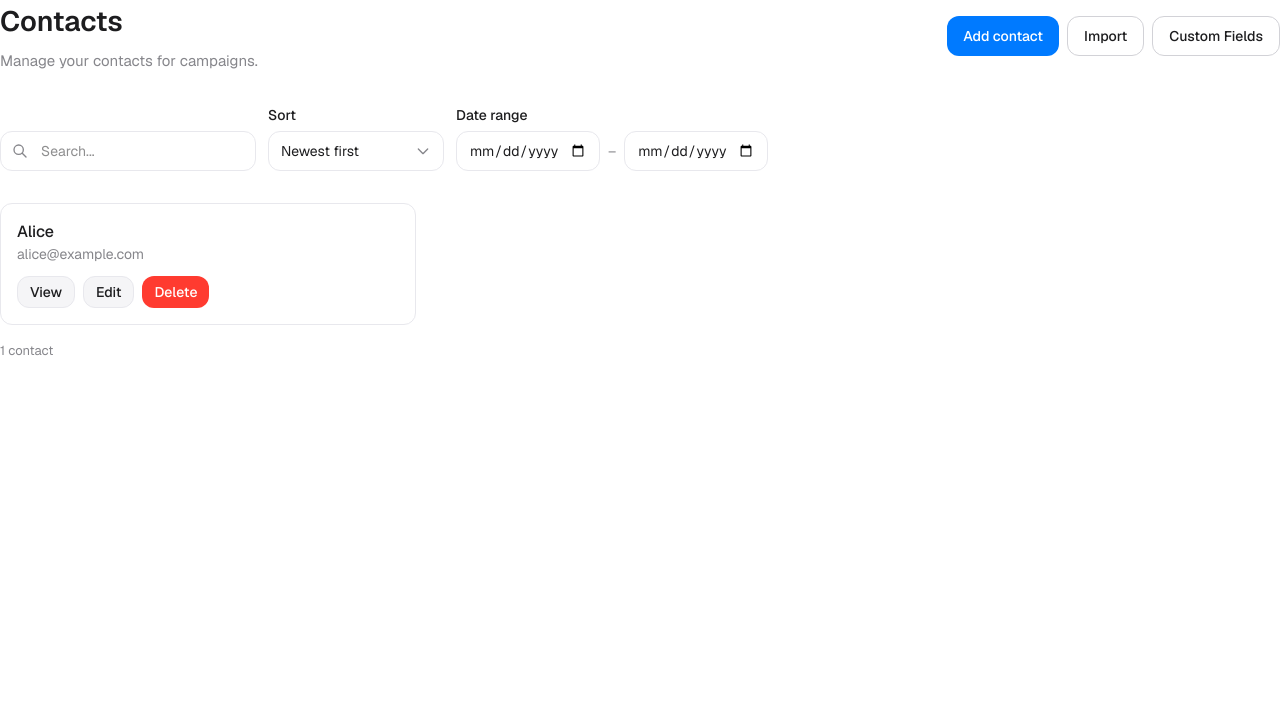
Test: ContactsPage › shows an error when deleting a contact fails
Expected: the text "Alice" is shown, [17,220,54,242]
Step 1. Click the button "Delete" → (176, 292), box [142,276,210,308]
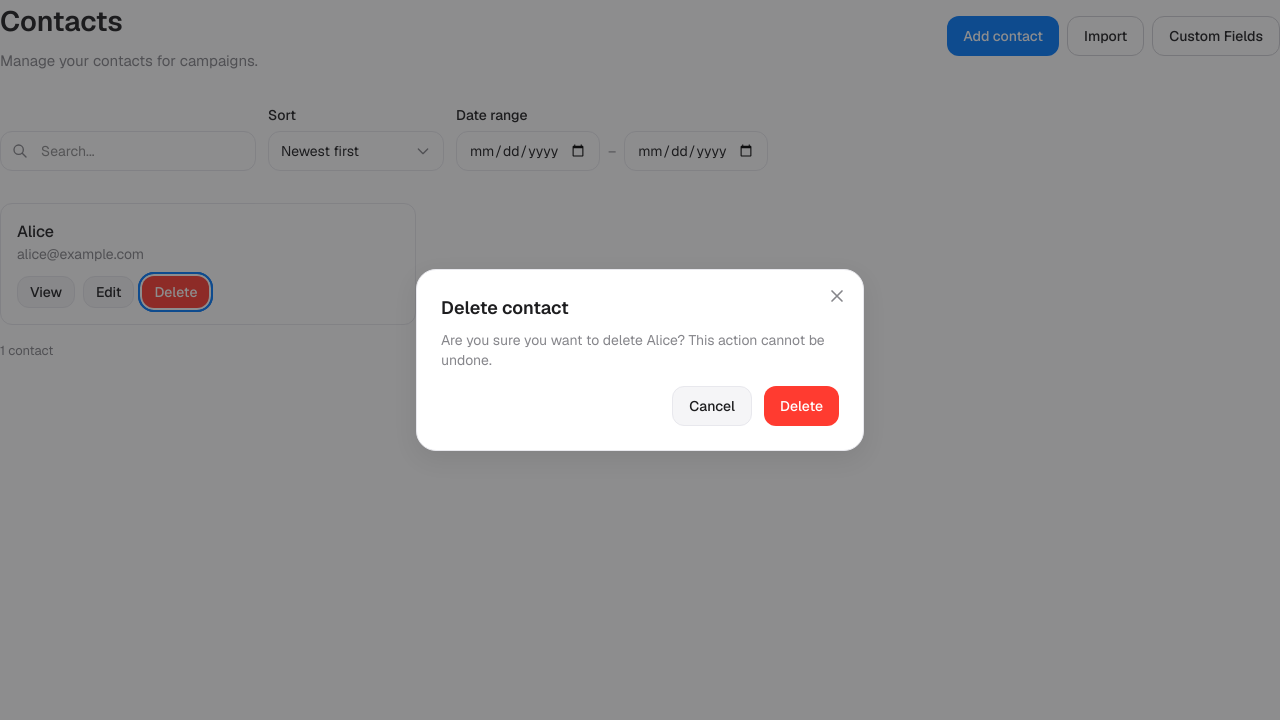
Step 2. Click the button "Delete" → (801, 406), box [764,386,839,426]
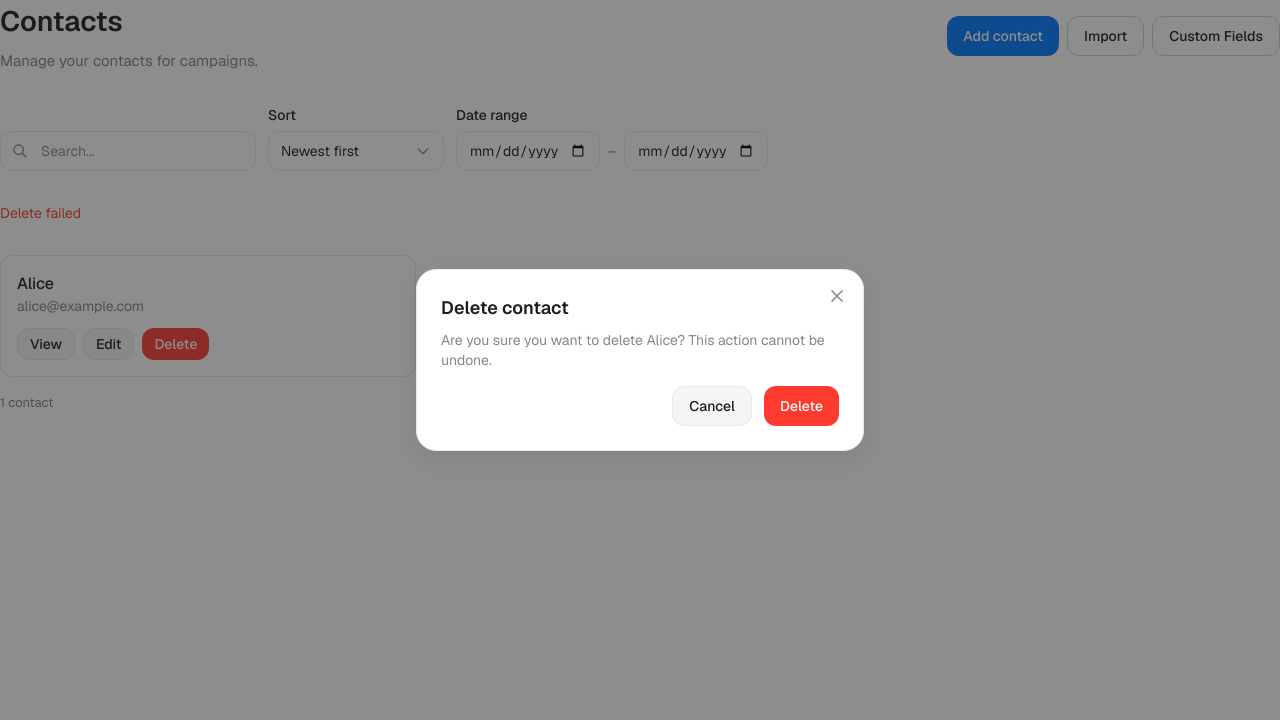
Expected: the text "Alice" is shown, [17,272,54,294]
Expected: the message reads "Delete failed", [0,204,81,222]
